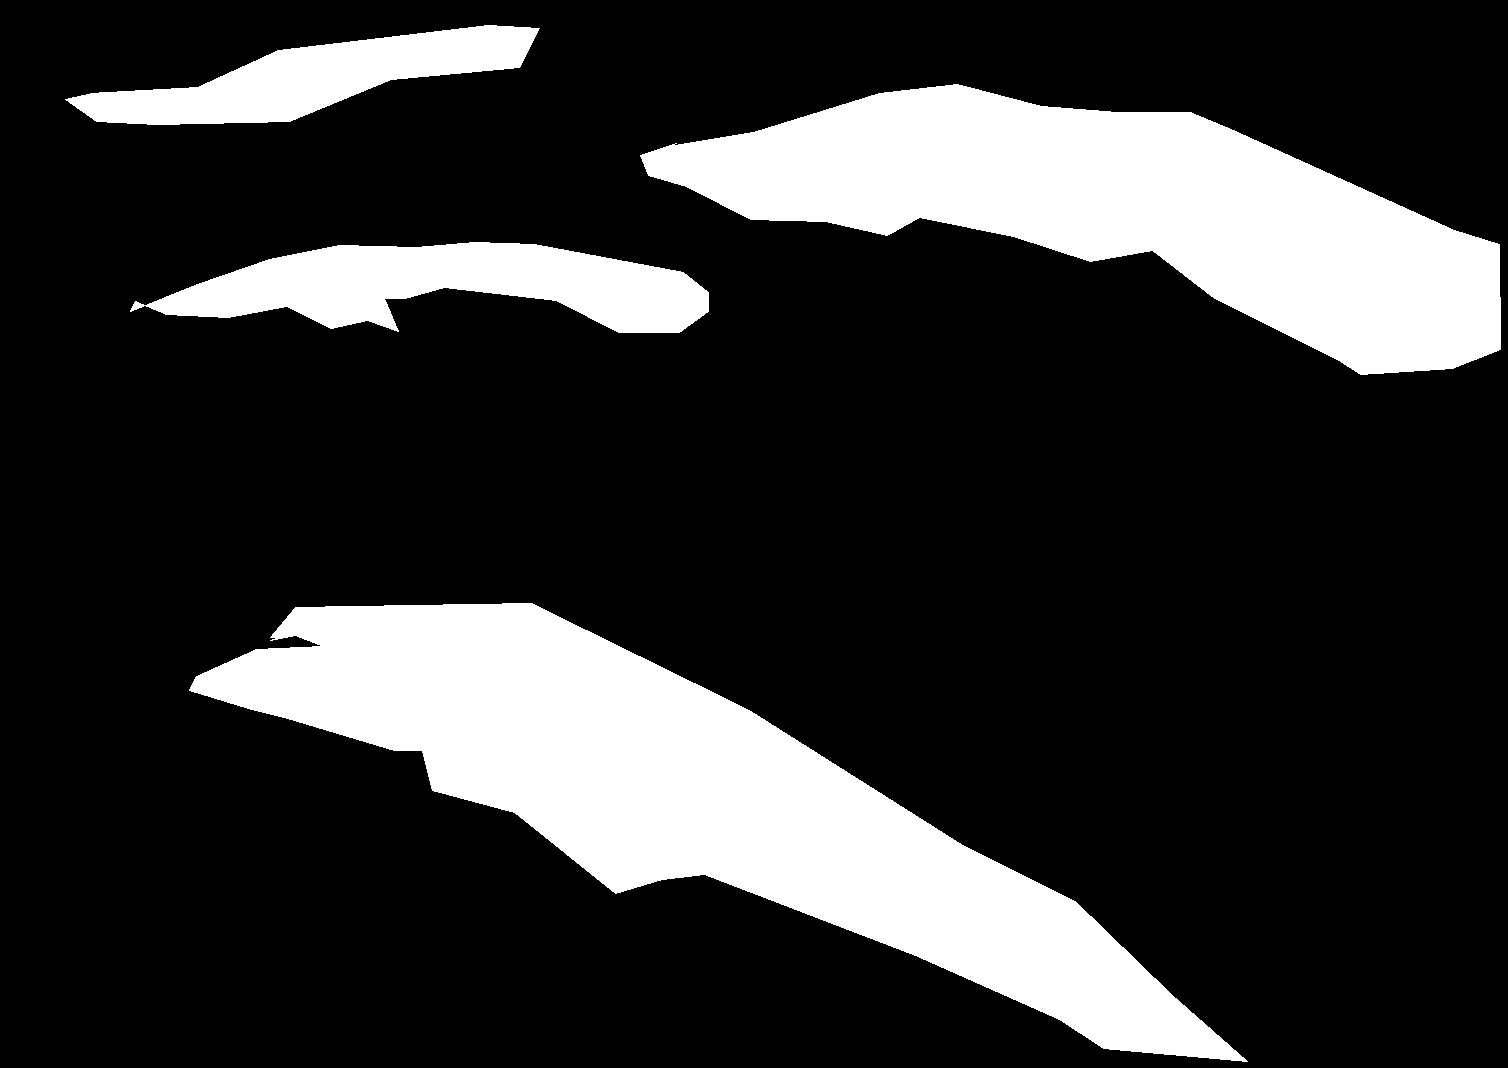Fire: (679, 700, 1082, 1028), (221, 621, 581, 786), (135, 223, 579, 346), (697, 104, 1105, 215), (55, 62, 388, 138)
